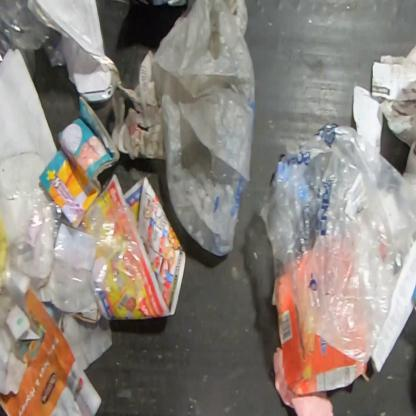cardboard: (37, 95, 122, 228), (277, 302, 371, 396), (0, 153, 45, 202)
soft_plastic: (257, 121, 416, 364), (149, 0, 257, 259), (0, 185, 150, 323), (0, 0, 65, 83)
